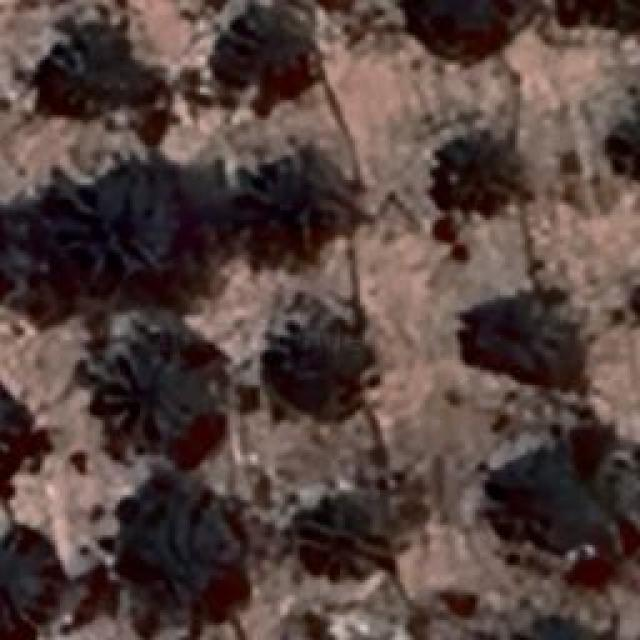PalmTree: (137, 508, 240, 610), (81, 168, 184, 270), (90, 342, 188, 448), (264, 314, 362, 414), (225, 5, 328, 93), (252, 160, 350, 252), (49, 24, 149, 114), (406, 0, 526, 70), (306, 496, 402, 582), (487, 446, 565, 546), (436, 134, 516, 222), (466, 292, 554, 370), (0, 532, 60, 638), (0, 372, 40, 497), (548, 0, 640, 37), (602, 110, 640, 187), (520, 612, 610, 640)
